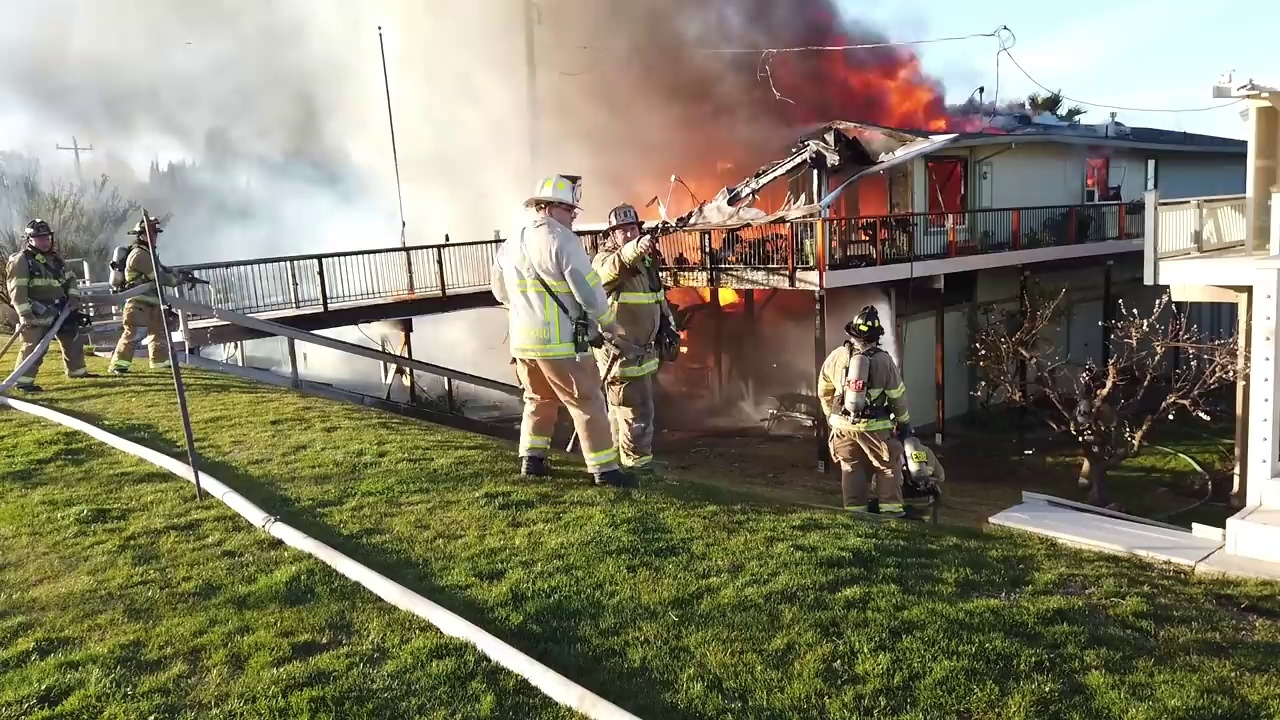fire: (855, 52, 990, 130), (925, 160, 967, 211), (856, 178, 888, 214), (757, 182, 791, 214), (692, 284, 737, 306), (1088, 159, 1108, 187)
smoke: (4, 1, 597, 223), (596, 1, 978, 148), (654, 383, 817, 440), (413, 304, 523, 383), (299, 321, 401, 394), (745, 289, 815, 385), (686, 307, 745, 383), (239, 338, 293, 379)
